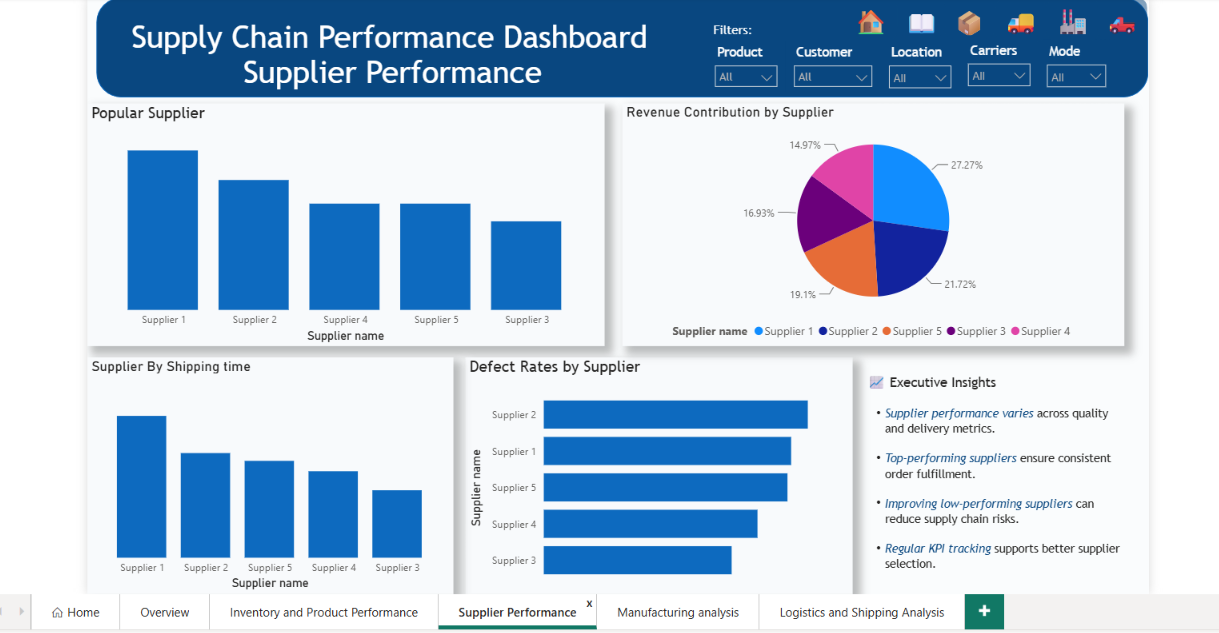

The page's visual inventory and layout, read from the dashboard file:
{"tool":"powerbi","page":{"name":"Supplier Performance","canvas":[1280,720],"ordinal":3},"visuals":[{"type":"shape","box":[10.9,0,1269.2,120.6],"z":0},{"type":"actionButton","box":[913.3,0,63.9,53.1],"z":0,"group":"g2"},{"type":"slicer","fields":{"Values":["Sheet1.Product type"]},"box":[746.8,51.9,95.3,60.3],"z":0,"group":"g1"},{"type":"actionButton","title":"Overview Page","box":[977.3,0,57.9,47.1],"z":1000,"group":"g2"},{"type":"textbox","box":[48.3,20.5,678,107.4],"z":1000},{"type":"slicer","fields":{"Values":["Sheet1.Customer demographics"]},"box":[842.1,51.9,114.6,62.7],"z":1000,"group":"g1"},{"type":"actionButton","title":"Inventory and Product","box":[1032.4,2.4,62.7,47.1],"z":2000,"group":"g2"},{"type":"textbox","box":[639.4,25.3,278.7,42.2],"z":2000},{"type":"slicer","fields":{"Values":["Sheet1.Transportation modes"]},"box":[1147.3,50.7,91.7,61.5],"z":2000,"group":"g1"},{"type":"actionButton","title":"Supplier Performance","box":[1095.4,0,61.5,54.3],"z":3000,"group":"g2"},{"type":"slicer","fields":{"Values":["Sheet1.Shipping carriers"]},"box":[1052,49.5,95.3,67.6],"z":3000,"group":"g1"},{"type":"columnChart","title":"Popular Supplier ","fields":{"Category":["Sheet1.Supplier name"],"Y":["CountNonNull(Sheet1.Supplier name)"]},"box":[0,127.9,623.7,293.2],"z":3000},{"type":"actionButton","title":"Manufacturing Analysis","box":[1157,0,63.9,53.1],"z":4000,"group":"g2"},{"type":"slicer","fields":{"Values":["Sheet1.Location"]},"box":[956.7,51.9,95.3,60.3],"z":4000,"group":"g1"},{"type":"clusteredBarChart","title":"Defect Rates by Supplier","fields":{"Category":["Sheet1.Supplier name"],"Y":["Sum(Sheet1.Defect rates)"]},"box":[455.9,434.3,467.5,285.7],"z":4000},{"type":"actionButton","title":"Logistics and Shipping","box":[1218.2,0,60.3,50.7],"z":5000,"group":"g2"},{"type":"pieChart","title":"Revenue Contribution by Supplier","fields":{"Y":["Sheet1.Total Revenue"],"Category":["Sheet1.Supplier name"]},"box":[645.4,127.9,605.6,293.2],"z":5000},{"type":"columnChart","title":"Supplier By Shipping time","fields":{"Category":["Sheet1.Supplier name"],"Y":["Sum(Sheet1.Shipping times)"]},"box":[0,434.3,441.5,285.7],"z":6000},{"type":"group","id":"g1","title":"Group 1","box":[746.8,49.5,492.2,67.6],"z":7000},{"type":"textbox","box":[936.2,447.6,314.9,263],"z":8000},{"type":"group","id":"g2","title":"Group 2","box":[913.3,0,365.2,54.3],"z":9000}]}

Visuals, with their boxes on the page's 1280x720 design canvas (x1, y1, x2, y2). These are canvas units, not pixel positions in the 1219x633 screenshot, which may show the page scaled, cropped or inside an application window:
shape: locate(11, 0, 1280, 121)
actionButton: locate(913, 0, 977, 53)
slicer - Sheet1.Product type: locate(747, 52, 842, 112)
"Overview Page" actionButton: locate(977, 0, 1035, 47)
textbox: locate(48, 20, 726, 128)
slicer - Sheet1.Customer demographics: locate(842, 52, 957, 115)
"Inventory and Product" actionButton: locate(1032, 2, 1095, 50)
textbox: locate(639, 25, 918, 68)
slicer - Sheet1.Transportation modes: locate(1147, 51, 1239, 112)
"Supplier Performance" actionButton: locate(1095, 0, 1157, 54)
slicer - Sheet1.Shipping carriers: locate(1052, 50, 1147, 117)
"Popular Supplier " columnChart: locate(0, 128, 624, 421)
"Manufacturing Analysis" actionButton: locate(1157, 0, 1221, 53)
slicer - Sheet1.Location: locate(957, 52, 1052, 112)
"Defect Rates by Supplier" clusteredBarChart: locate(456, 434, 923, 720)
"Logistics and Shipping" actionButton: locate(1218, 0, 1278, 51)
"Revenue Contribution by Supplier" pieChart: locate(645, 128, 1251, 421)
"Supplier By Shipping time" columnChart: locate(0, 434, 442, 720)
"Group 1" group: locate(747, 50, 1239, 117)
textbox: locate(936, 448, 1251, 711)
"Group 2" group: locate(913, 0, 1278, 54)
